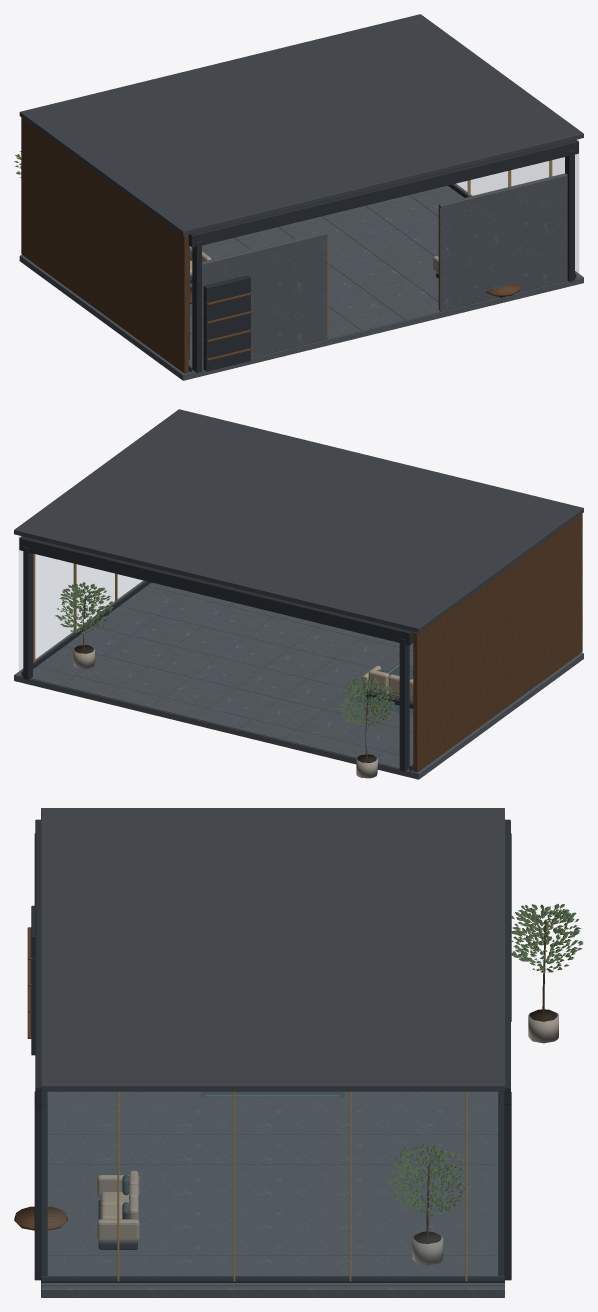
File: environment-1.glb
3 renders of one model, top to bottom at view 1: azimuth 30°, elevation 25°; view 2: azimuth 150°, elevation 25°; view 3: azimuth 270°, elevation 25°, orthographic. The views are drawn at different scales.
Parts seen in each view (by area): view 1: Continuous floor slab; view 2: Continuous floor slab; view 3: Continuous floor slab.
Part boxes in pixels (x1,y1,x2,y2): Continuous floor slab: (14,14,583,380); Continuous floor slab: (14,409,583,779); Continuous floor slab: (14,808,583,1297).
Size of the model in its own units: 17 by 6.06 by 14.74.
Materials: 13 (4 with a texture image).
